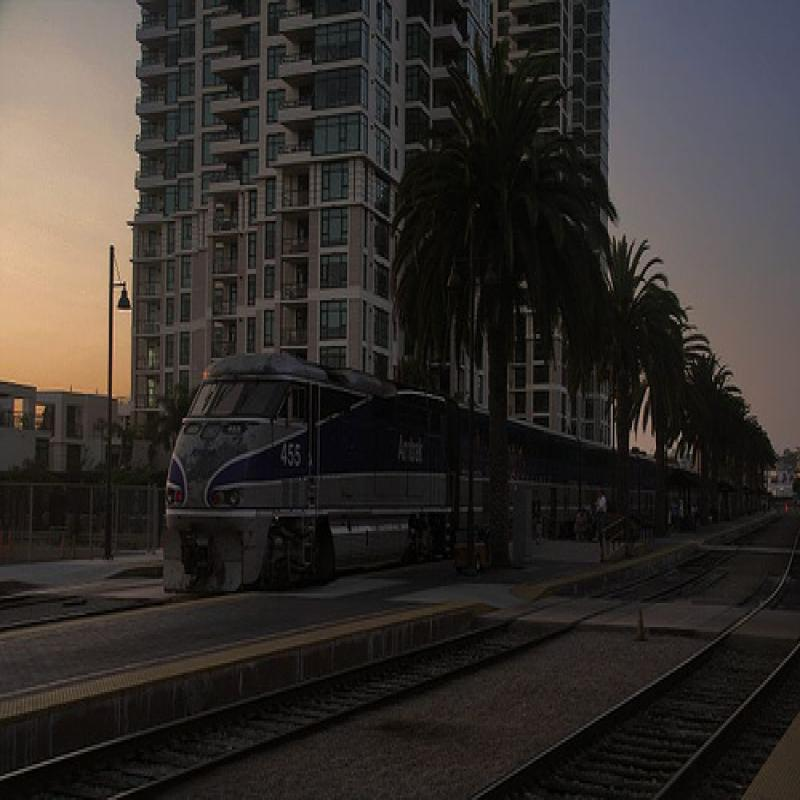train: (158, 352, 705, 602)
